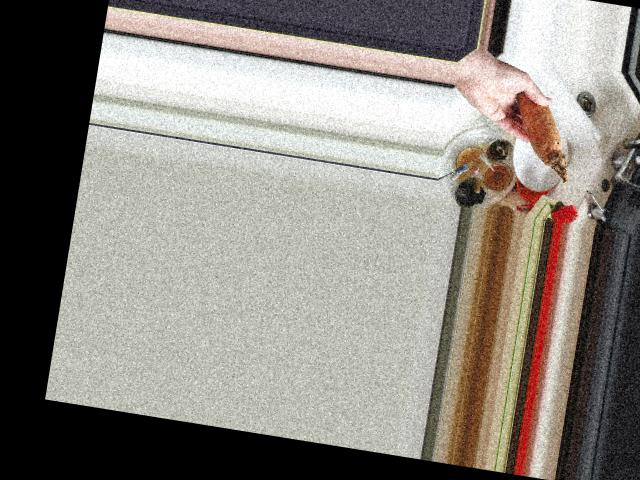sweet_potato: (499, 83, 581, 185)
